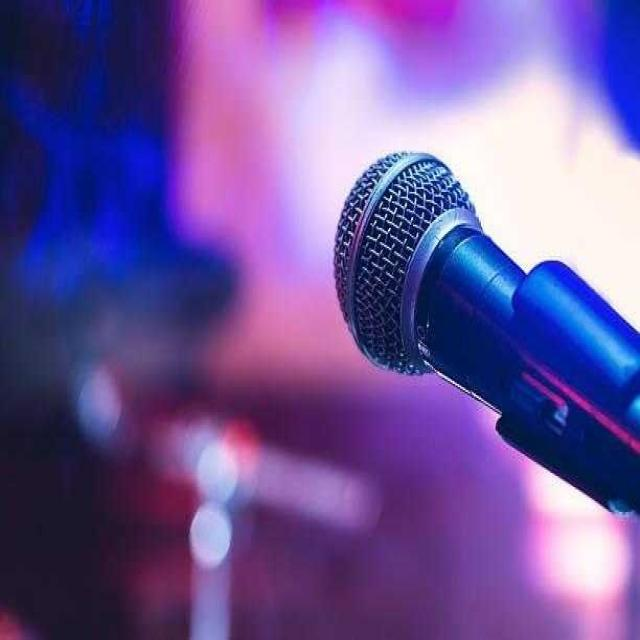microphone: (334, 146, 635, 534), (334, 150, 476, 369)
